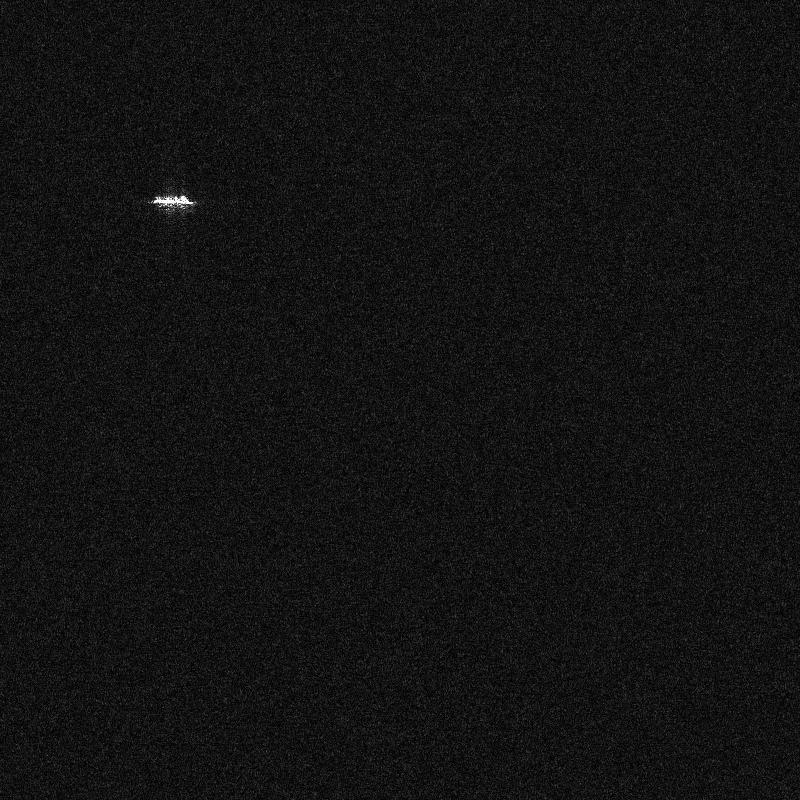ship: (151, 195, 194, 206)
